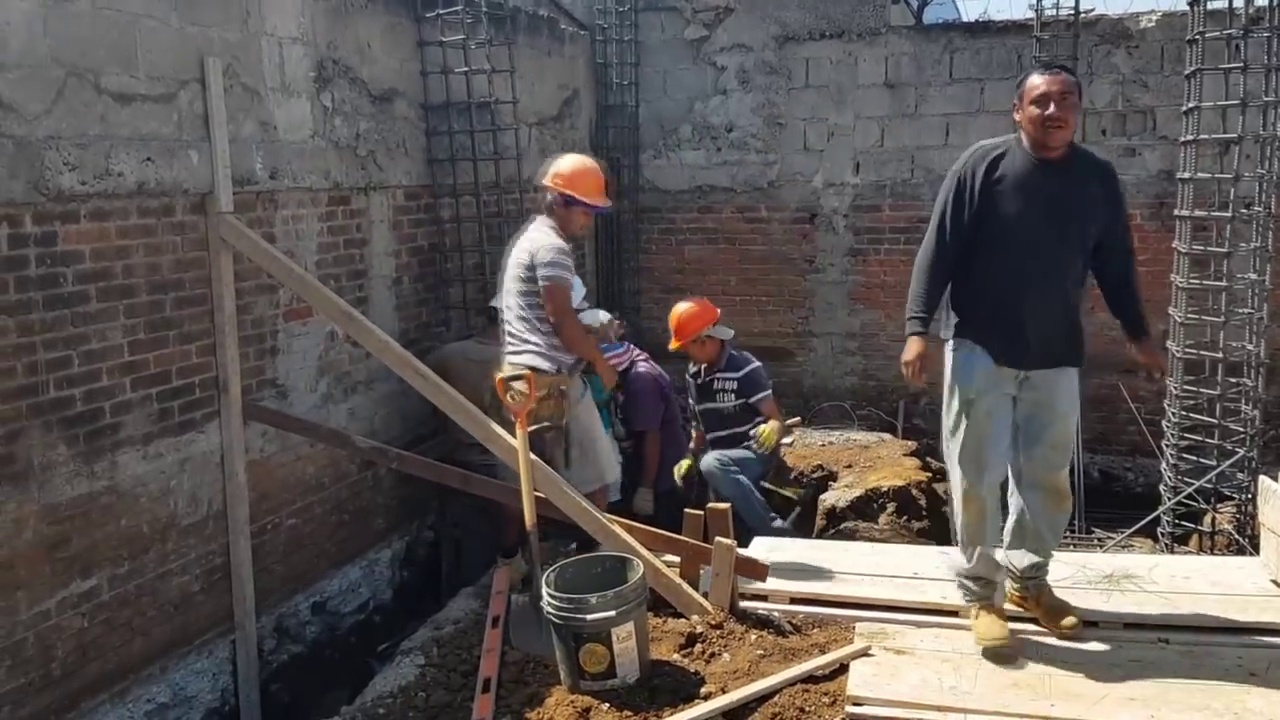helmet: (537, 152, 612, 208), (664, 299, 718, 354), (577, 308, 616, 347)
helmet-off: (1023, 58, 1091, 159)
helmet-on: (534, 152, 610, 249), (664, 296, 728, 369), (579, 308, 634, 366)
person: (899, 61, 1161, 673), (493, 144, 624, 536), (665, 298, 786, 527), (604, 303, 679, 511)
